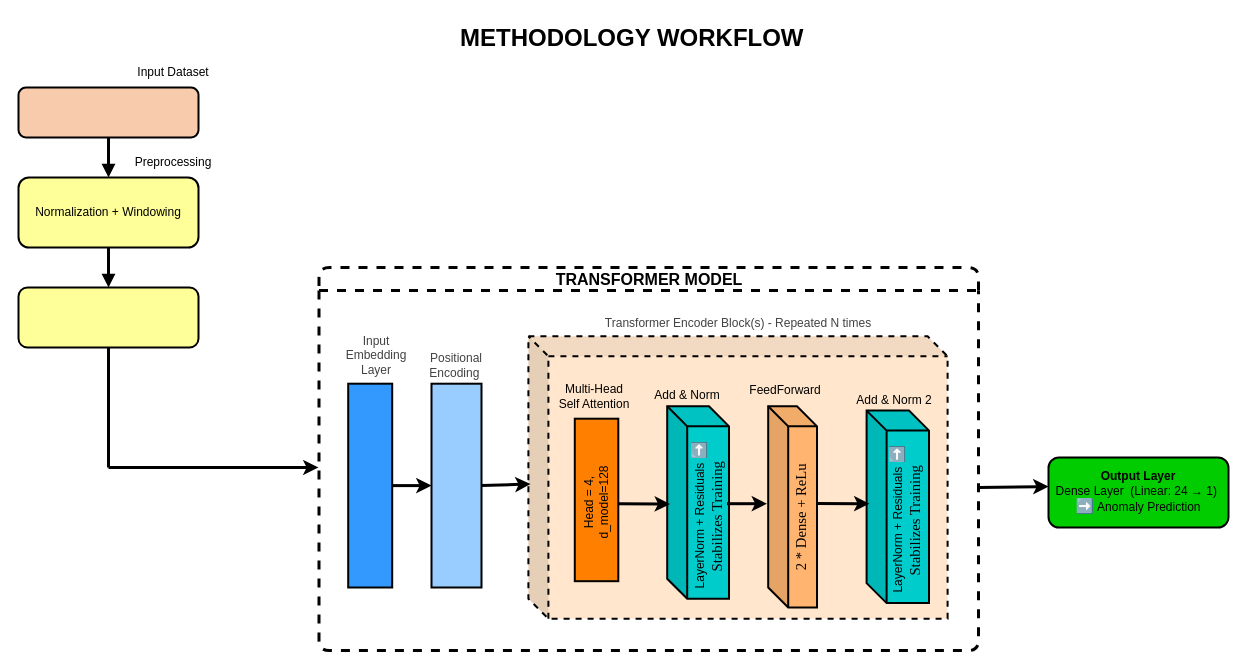
Image size: 1246x669. Some labels were removed from this diagram. The centre of each missing label's shape, as x and y in pixels:
"Dense Layer (d_model=24)" goes at (x=370, y=485).
"IoT Sensor Data" goes at (x=108, y=112).
"Sequence Construction (Time-Series to sequences)" goes at (x=108, y=317).
"Sinusoidal or learnable position encodings" goes at (x=456, y=485).
